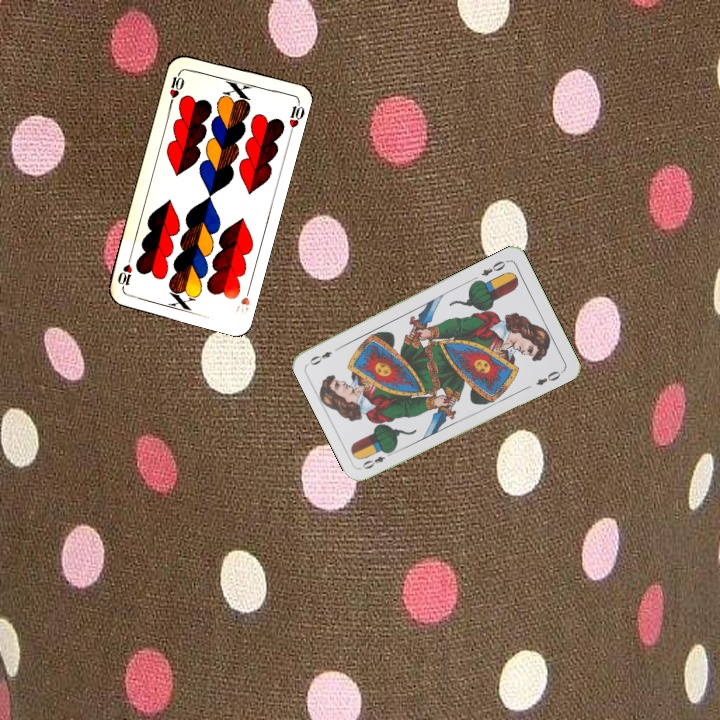EO: (358, 447, 396, 472), (477, 256, 511, 279)
H10: (230, 281, 254, 318), (165, 67, 187, 107)
